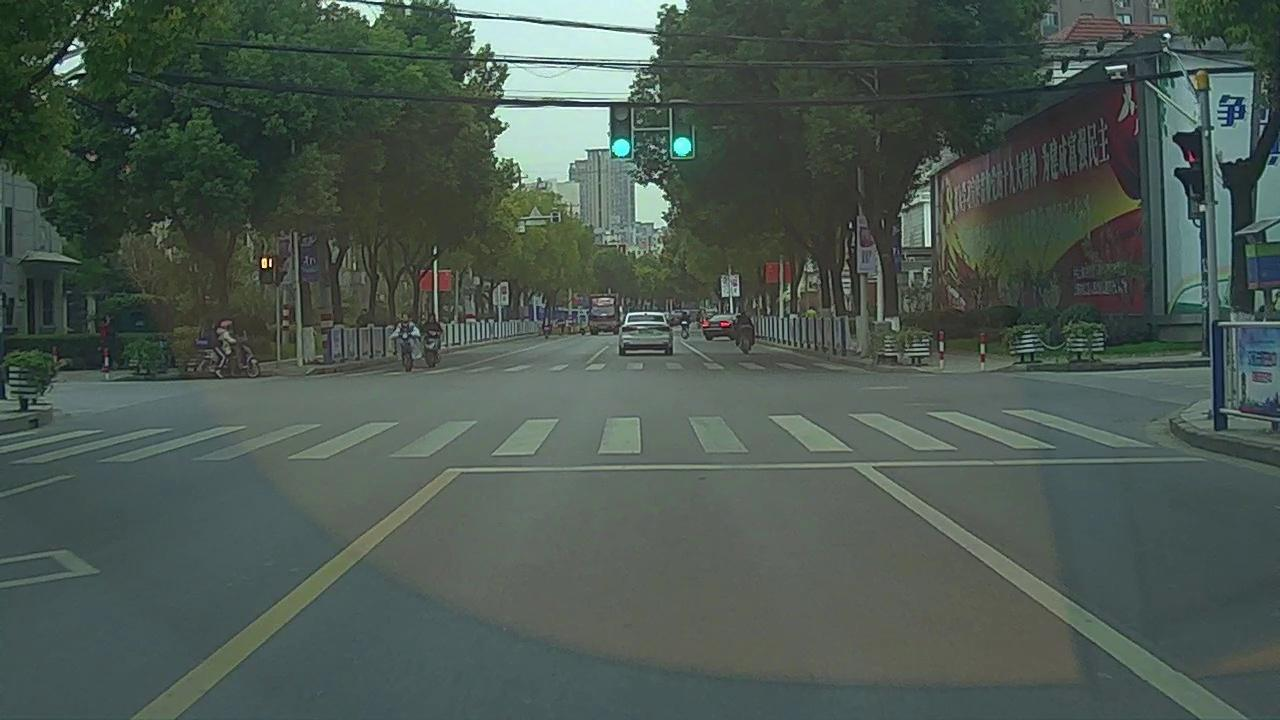traffic_light: (611, 100, 631, 159), (672, 102, 692, 158)
